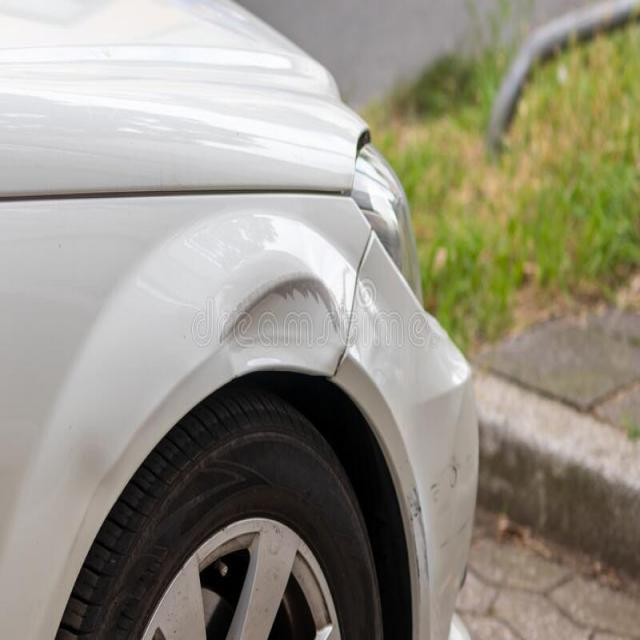fender-dent: (0, 197, 346, 591)
front-bumper-dent: (347, 191, 488, 639)
